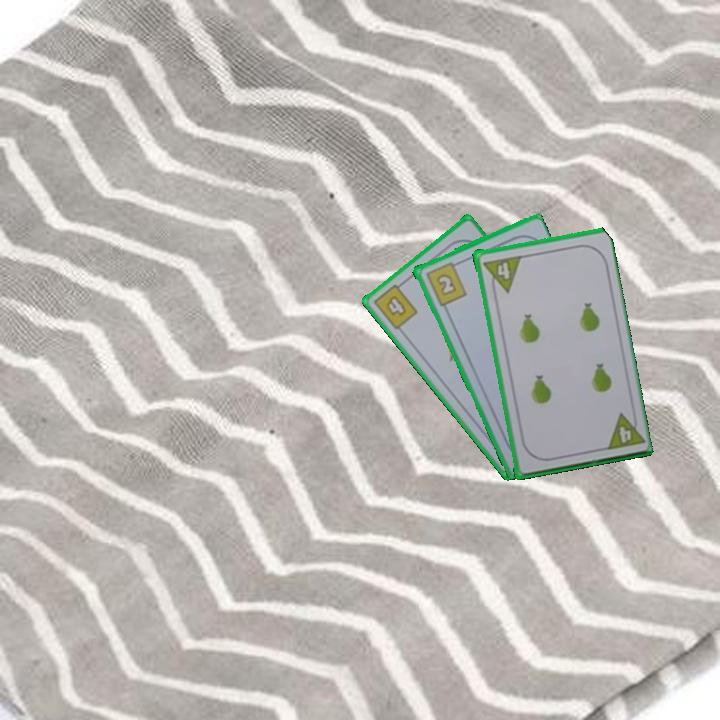2b: (422, 258, 469, 309)
4b: (370, 277, 420, 333)
4p: (491, 255, 523, 293), (615, 422, 634, 446)
